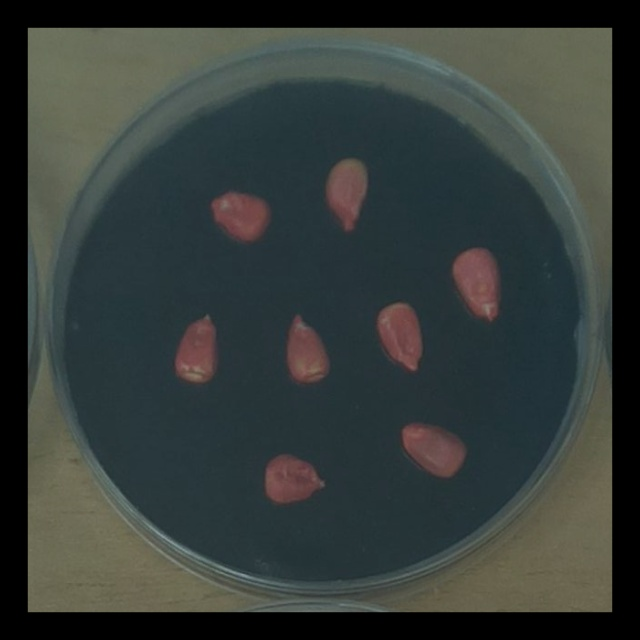Zea mays: (444, 240, 509, 327), (393, 415, 474, 484), (368, 293, 431, 377), (317, 149, 377, 237), (277, 306, 338, 392), (168, 304, 224, 390), (204, 183, 278, 247), (259, 446, 333, 509)
